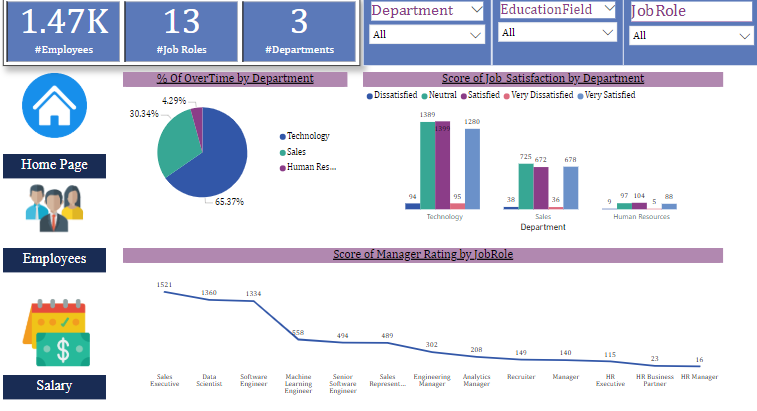

This screenshot's page, from the dashboard's own definition file:
{"tool":"powerbi","page":{"name":"Jobs","canvas":[1280,720],"ordinal":2},"visuals":[{"type":"image","box":[11.9,131,162.9,119],"z":0,"group":"g1"},{"type":"group","id":"g1","title":"Group 1","box":[6.9,131,172.4,553.4],"z":0},{"type":"cardVisual","fields":{"Data":["_Dax Measures.#Employees","_Dax Measures.#Job Roles","_Dax Measures.#Departments"]},"box":[6.9,10.3,600,113.8],"z":1000},{"type":"slicer","fields":{"Values":["Employee.JobRole"]},"box":[1048.3,10.3,231,113.8],"z":2000},{"type":"image","box":[38.8,273.5,109.2,178.5],"z":2000,"group":"g1"},{"type":"slicer","fields":{"Values":["Employee.Department"]},"box":[612.1,10.3,215.5,113.8],"z":3000},{"type":"image","box":[34,510.9,126,122.6],"z":3000,"group":"g1"},{"type":"slicer","fields":{"Values":["Employee.EducationField"]},"box":[827.6,10.3,220.7,113.8],"z":4000},{"type":"textbox","box":[6.9,271.7,173,41.5],"z":4000,"group":"g1"},{"type":"pieChart","title":"% Of OverTime by Department","fields":{"Category":["Employee.Department"],"Y":["Divide(CountNonNull(Employee.OverTime), ScopedEval(CountNonNull(Employee.OverTime), []))"]},"box":[208.3,135,376.7,250],"z":5000},{"type":"textbox","box":[6.9,430.4,173,41.5],"z":5000,"group":"g1"},{"type":"clusteredColumnChart","title":"Score of Job_Satisfaction by Department","fields":{"Category":["Employee.Department"],"Y":["CountNonNull(PerformanceRating.Environment_Satisfaction)"],"Series":["PerformanceRating.Environment_Satisfaction"]},"box":[611.7,135,605,273.3],"z":7002},{"type":"lineStackedColumnComboChart","title":"Score of Manager Rating by JobRole","fields":{"Y2":["CountNonNull(PerformanceRating.Manager Rating)"],"Category":["Employee.JobRole"]},"box":[208.3,430,1008.3,255],"z":7003},{"type":"textbox","box":[7.6,643.9,173,41.5],"z":8000,"group":"g1"}]}

Visuals, with their boxes on the page's 1280x720 design canvas (x1, y1, x2, y2). These are canvas units, not pixel positions in the 757x411 screenshot, which may show the page scaled, cropped or inside an application window:
image: BBox(12, 131, 175, 250)
"Group 1" group: BBox(7, 131, 179, 684)
cardVisual - _Dax Measures.#Employees x _Dax Measures.#Job Roles: BBox(7, 10, 607, 124)
slicer - Employee.JobRole: BBox(1048, 10, 1279, 124)
image: BBox(39, 274, 148, 452)
slicer - Employee.Department: BBox(612, 10, 828, 124)
image: BBox(34, 511, 160, 634)
slicer - Employee.EducationField: BBox(828, 10, 1048, 124)
textbox: BBox(7, 272, 180, 313)
"% Of OverTime by Department" pieChart: BBox(208, 135, 585, 385)
textbox: BBox(7, 430, 180, 472)
"Score of Job_Satisfaction by Department" clusteredColumnChart: BBox(612, 135, 1217, 408)
"Score of Manager Rating by JobRole" lineStackedColumnComboChart: BBox(208, 430, 1217, 685)
textbox: BBox(8, 644, 181, 685)
